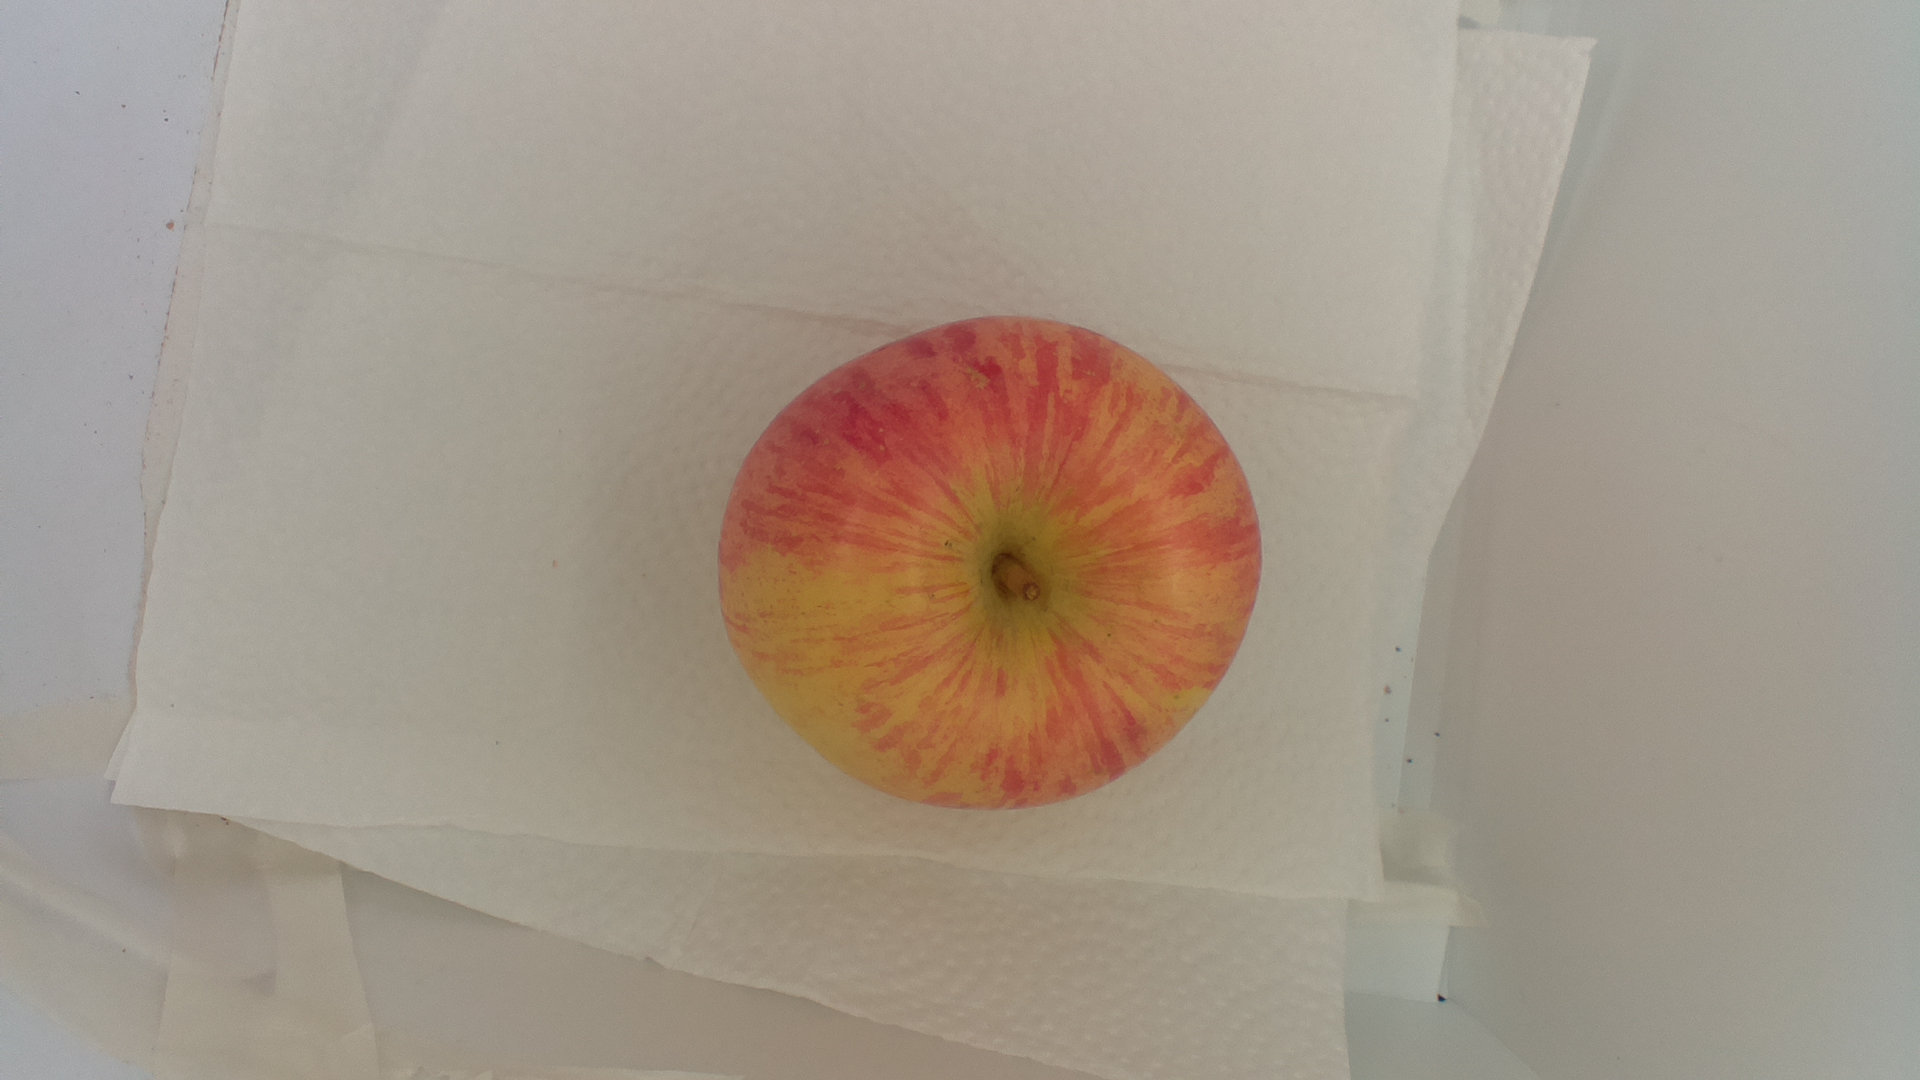fruit: (713, 313, 1270, 823)
